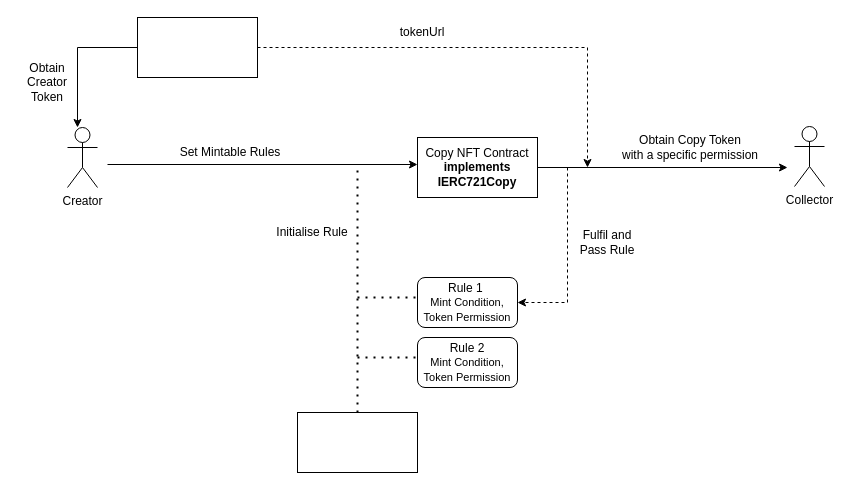
Image size: 850x490. Some labels were removed from this diagram. The centre of each missing label's shape, as x and y in pixels:
"Creator NFT Contract" belongs at (197,47).
"Mintable Contract implements IMintable" belongs at (357,442).
